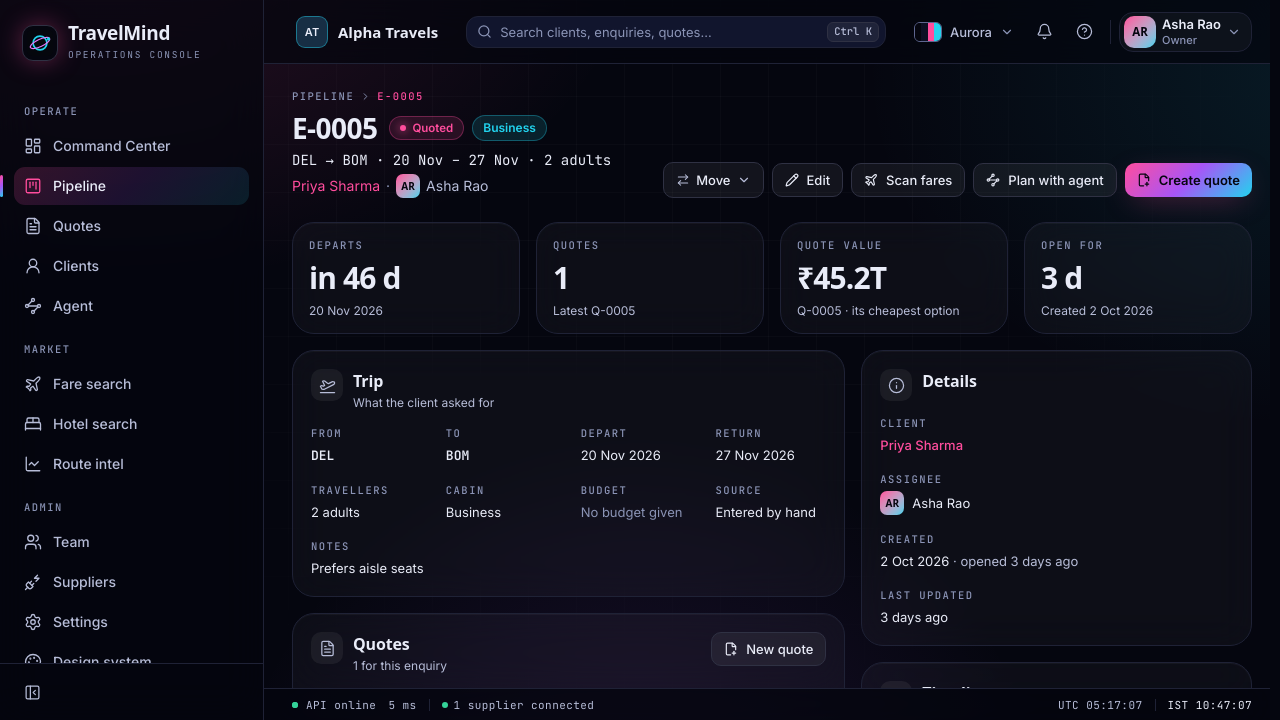
Test: the status menu offers only allowed moves
This screenshot has width=1280, height=720.
Click the button with aria-label "Move E-0005". click: (713, 180)
box: 663,162 -> 764,198
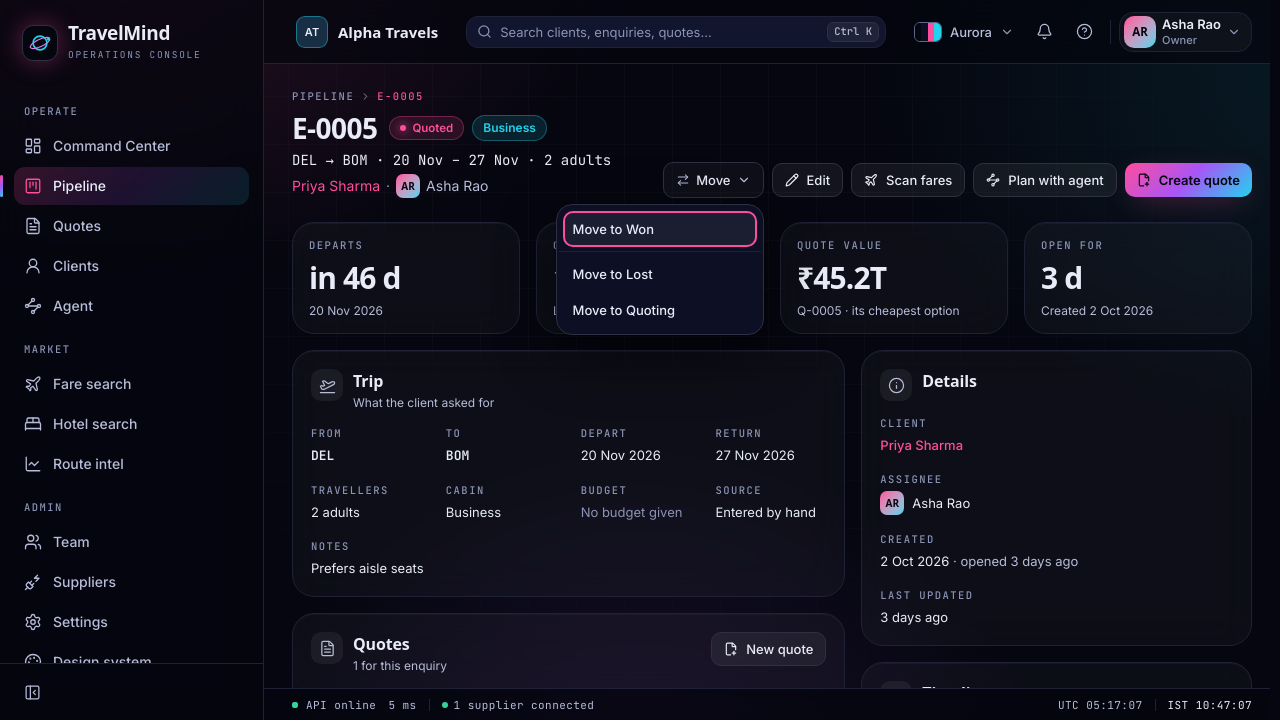
Check: the menu items read "Move to Won", "Move to Lost", "Move to Quoting", in this order, box 562,211 -> 756,247; 562,256 -> 756,292; 562,292 -> 756,328
